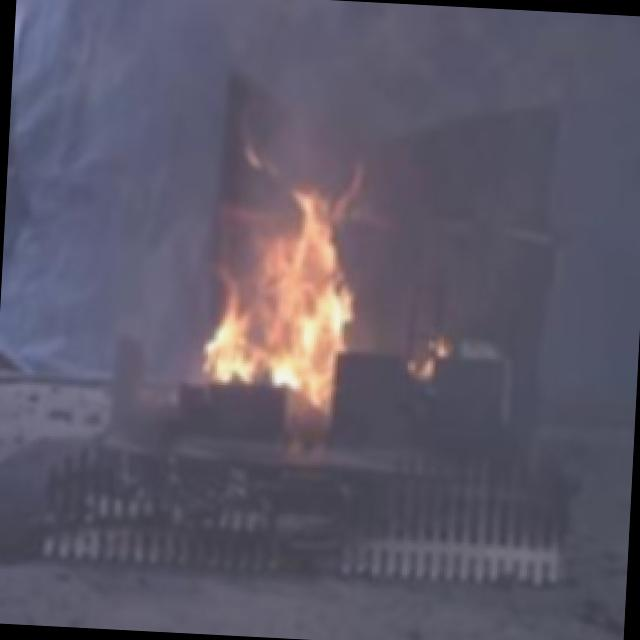fire: (212, 174, 358, 403)
